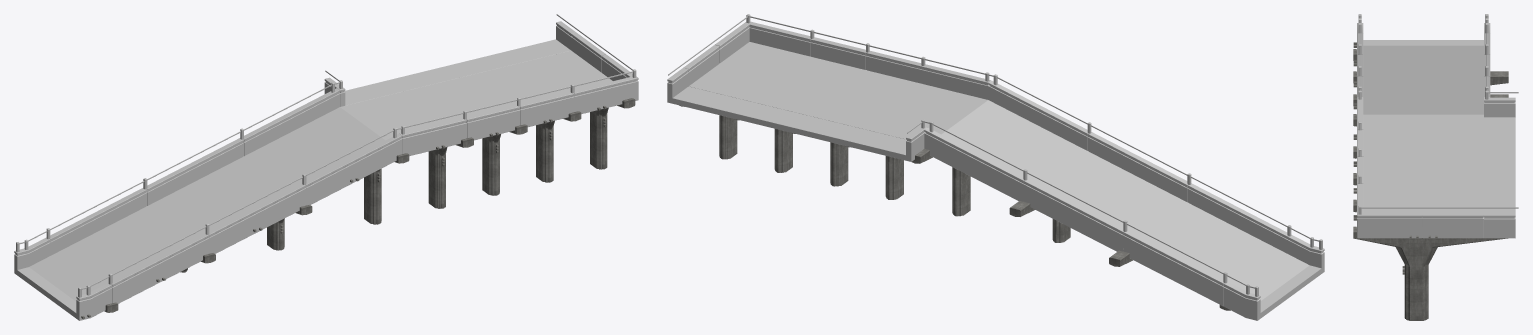
Rendered from Kitbash3D_Brutalist_Road01.fbx.
The picture shows the model from 3 angles, left to right: view 1: azimuth 30°, elevation 25°; view 2: azimuth 150°, elevation 25°; view 3: azimuth 270°, elevation 25°; orthographic projection. The views are drawn at different scales.
Parts seen in each view (by area): view 1: Plaza_Ramp_StoneFloor, Plaza_Ramp_Ramp_C_Floor, Plaza_Ramp_Ramp_B_Wall, Plaza_Ramp_ConcFormNoHoles, Plaza_Ramp_ConcFormHoles, Plaza_Ramp_Ramp_Rails1, Plaza_Ramp_Ramp_A_Wall; view 2: Plaza_Ramp_StoneFloor, Plaza_Ramp_Ramp_C_Floor, Plaza_Ramp_Ramp_B_Wall, Plaza_Ramp_ConcFormNoHoles, Plaza_Ramp_ConcFormHoles, Plaza_Ramp_Ramp_Rails1, Plaza_Ramp_Ramp_A_Wall; view 3: Plaza_Ramp_StoneFloor, Plaza_Ramp_Ramp_B_Wall, Plaza_Ramp_ConcFormNoHoles, Plaza_Ramp_ConcFormHoles, Plaza_Ramp_Ramp_A_Wall, Plaza_Ramp_Ramp_Rails1, Plaza_Ramp_Ramp_C_Floor, Plaza_Ramp_Ramp_Details.
Part boxes in pixels (box(x1,y1,x2,y2)): Plaza_Ramp_StoneFloor: box(29, 41, 612, 301); Plaza_Ramp_Ramp_C_Floor: box(14, 88, 401, 320); Plaza_Ramp_Ramp_B_Wall: box(399, 32, 638, 155); Plaza_Ramp_ConcFormNoHoles: box(104, 98, 635, 312); Plaza_Ramp_ConcFormHoles: box(17, 39, 570, 312); Plaza_Ramp_Ramp_Rails1: box(16, 14, 636, 297); Plaza_Ramp_Ramp_A_Wall: box(324, 21, 575, 106); Plaza_Ramp_StoneFloor: box(676, 42, 1309, 300); Plaza_Ramp_Ramp_C_Floor: box(924, 80, 1324, 320); Plaza_Ramp_Ramp_B_Wall: box(683, 21, 991, 138); Plaza_Ramp_ConcFormNoHoles: box(679, 105, 1230, 310); Plaza_Ramp_ConcFormHoles: box(673, 86, 1321, 312); Plaza_Ramp_Ramp_Rails1: box(668, 14, 1322, 296); Plaza_Ramp_Ramp_A_Wall: box(667, 67, 926, 161); Plaza_Ramp_StoneFloor: box(1363, 45, 1509, 213); Plaza_Ramp_Ramp_B_Wall: box(1357, 97, 1483, 238); Plaza_Ramp_ConcFormNoHoles: box(1353, 49, 1508, 320); Plaza_Ramp_ConcFormHoles: box(1363, 40, 1515, 212); Plaza_Ramp_Ramp_A_Wall: box(1484, 97, 1515, 238); Plaza_Ramp_Ramp_Rails1: box(1358, 14, 1518, 214); Plaza_Ramp_Ramp_C_Floor: box(1357, 23, 1490, 97); Plaza_Ramp_Ramp_Details: box(1353, 42, 1437, 238).
Bounding box in the file's own units: 22.65 × 4.7 × 5.65.
